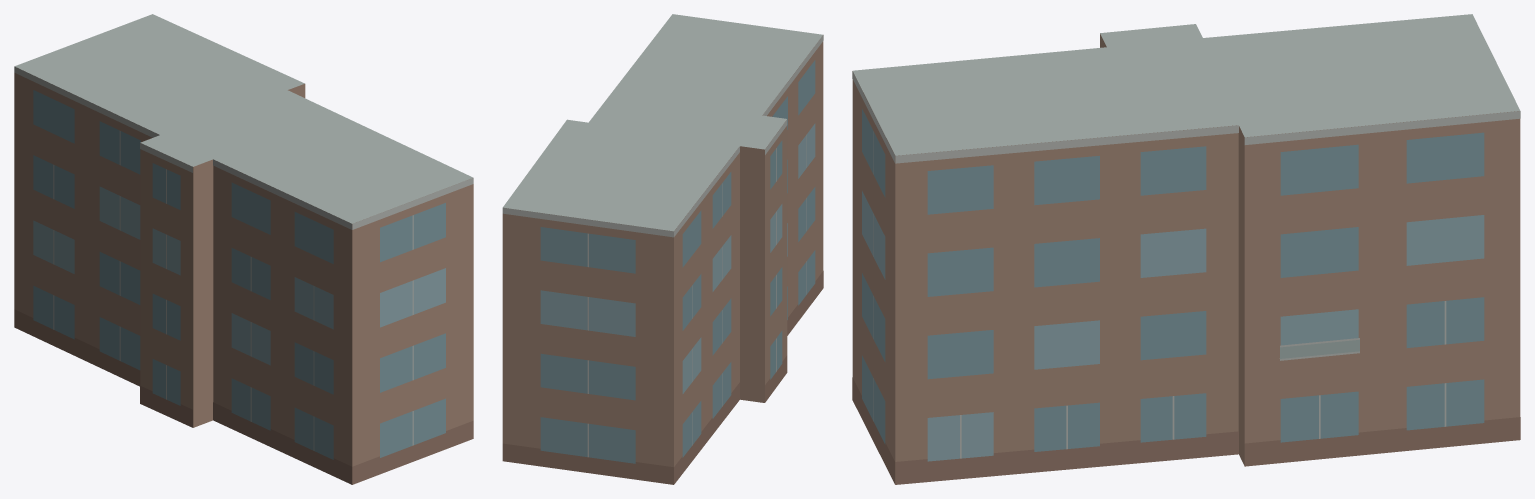
File: survey-upis-33029467.glb
3 views of the same model, side by side, from view 1: azimuth 30°, elevation 25°; view 2: azimuth 150°, elevation 25°; view 3: azimuth 270°, elevation 25° (orthographic). The views are drawn at different scales.
Parts seen in each view (by area): view 1: survey-upis-33029467.tmp; view 2: survey-upis-33029467.tmp; view 3: survey-upis-33029467.tmp.
Part boxes in pixels (x1=…): survey-upis-33029467.tmp: x1=14, y1=14, x2=473, y2=484; survey-upis-33029467.tmp: x1=502, y1=14, x2=823, y2=484; survey-upis-33029467.tmp: x1=852, y1=14, x2=1520, y2=484.
Size of the model in its own units: 9.43 by 10.2 by 18.77.
